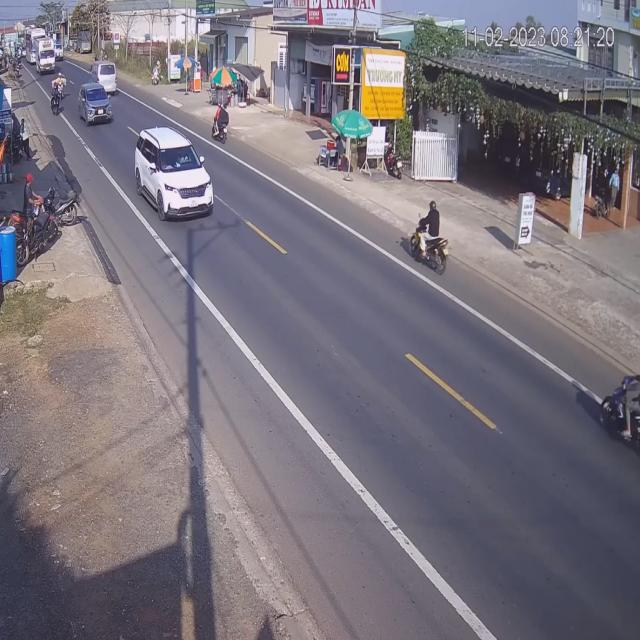car: (133, 126, 213, 224), (80, 79, 114, 125), (92, 61, 119, 98)
motorbike: (601, 368, 640, 459), (407, 199, 451, 276), (49, 80, 64, 120), (213, 106, 228, 141)
truck: (34, 39, 56, 77)
